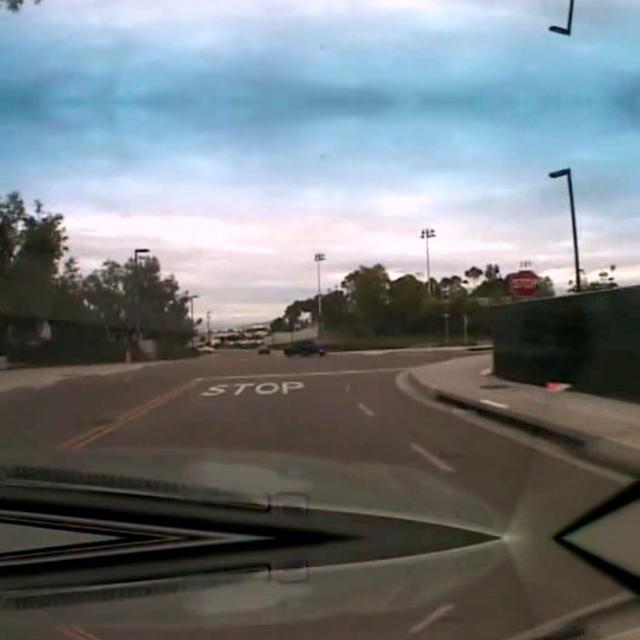stop: (509, 268, 539, 296)
